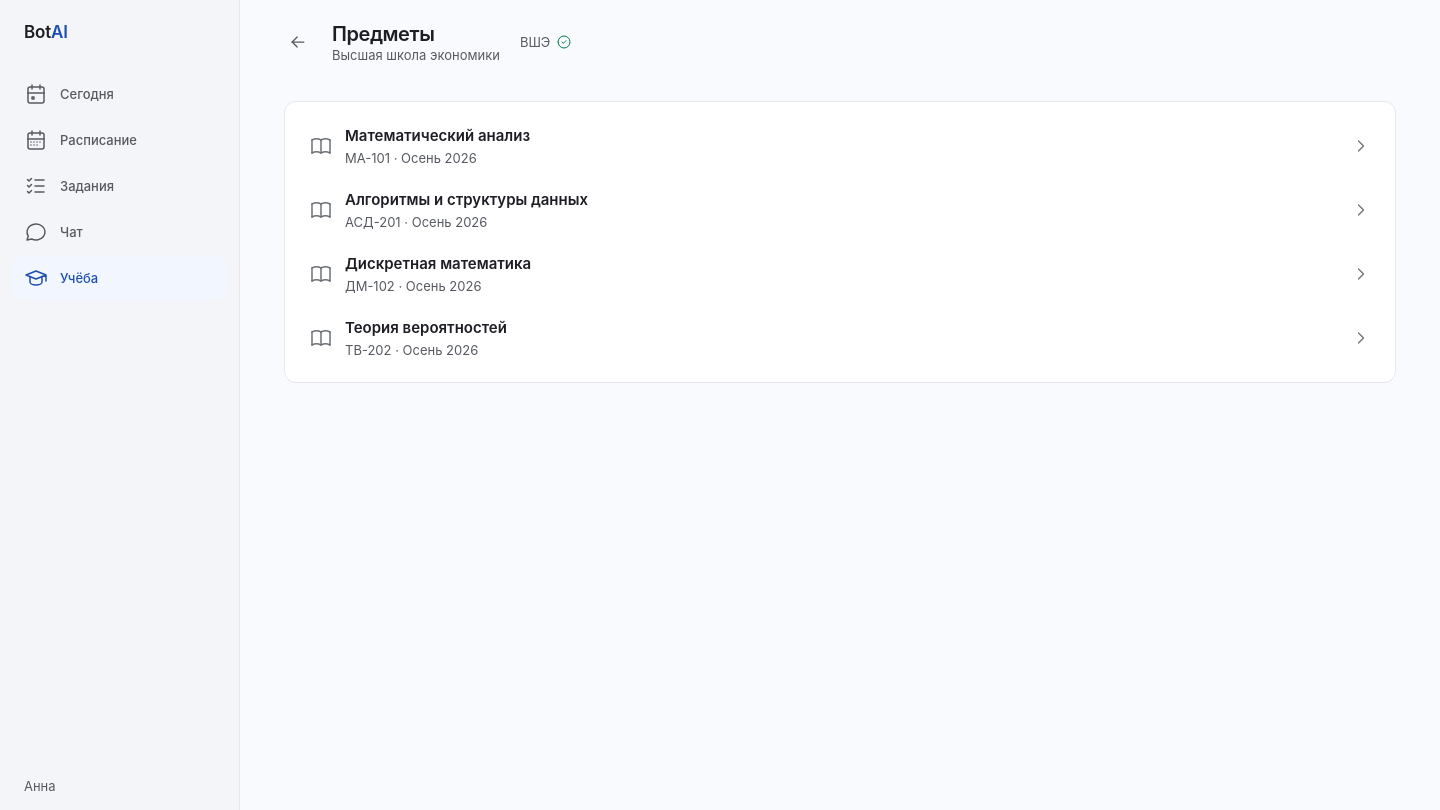
Test: «Учёба»: экраны разделов › «Предметы»: предметы одного вуза с кодом и периодом, карточка с источником и ссылкой
expect the heading "Предметы" is shown: met, box left=332, top=22, right=434, bottom=46
Click the button "Дискретная математика ДМ-102 · Осень 2026". click: (438, 264)
box: left=297, top=242, right=1383, bottom=306
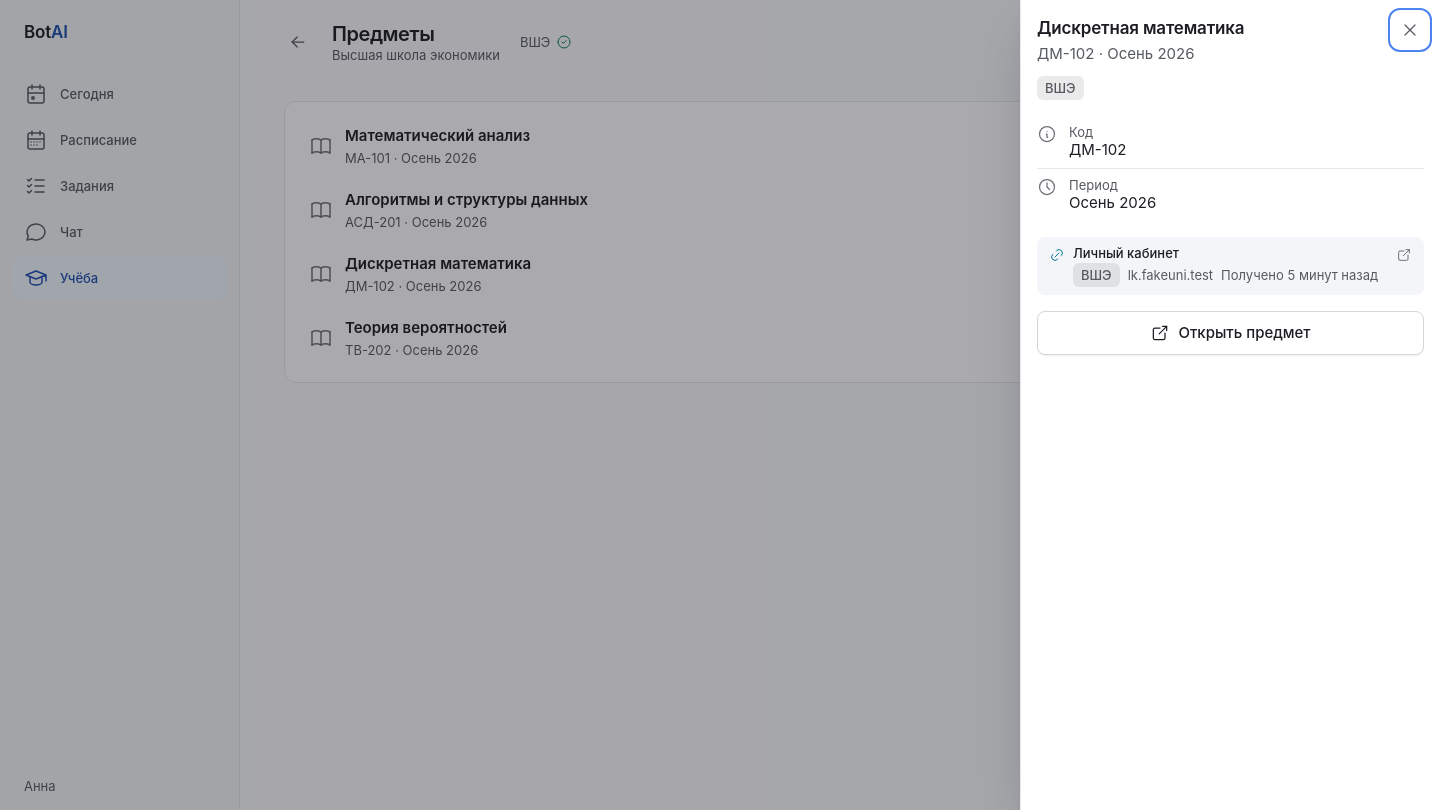
expect the text "Получено 5 минут назад" is shown: met, box left=1221, top=267, right=1378, bottom=283
